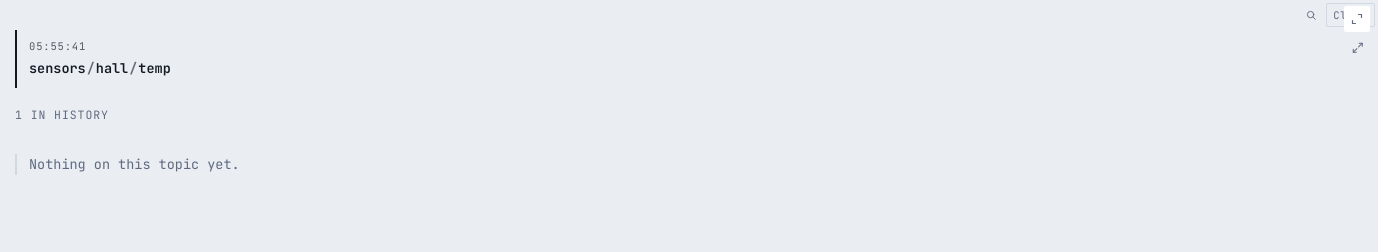
Scenario: WireLog › keeps only the entries matching the selected filter
Click the button "1 in history": coordinates (62, 115) [15,102,109,129]
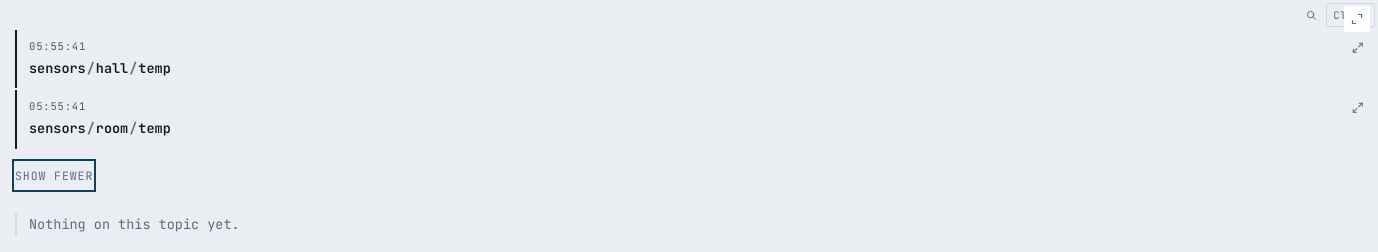
Check: the elements with test id "topic" read "sensors/hall/temp", "sensors/room/temp", in this order, box [29,58,171,76]; [29,119,171,137]
